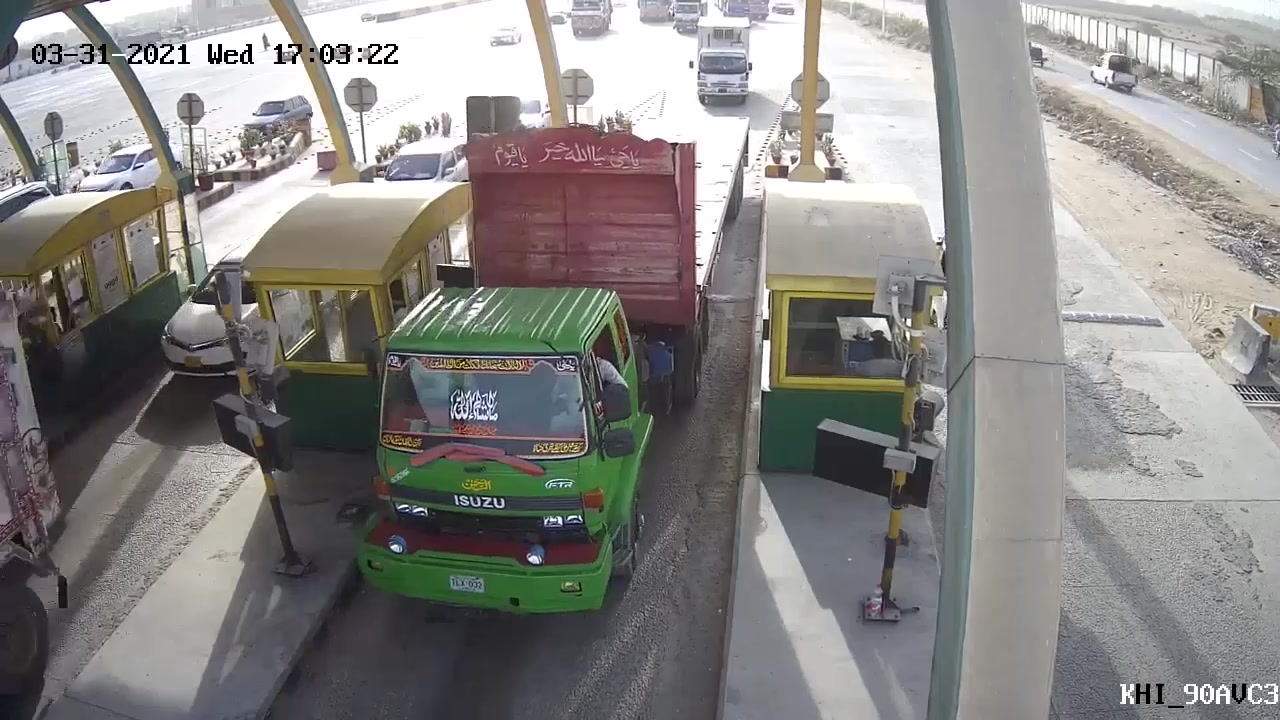F5: (329, 117, 722, 621)
